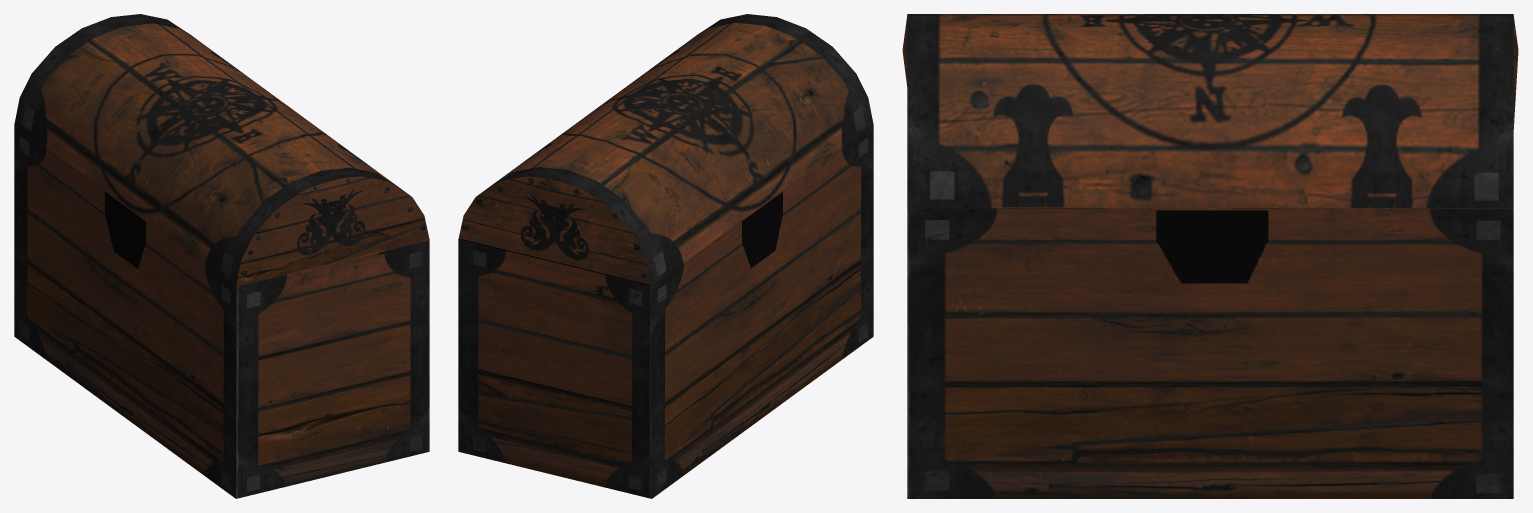
The model's file is SM_Bau.fbx.
3 views of the same model, side by side, from view 1: azimuth 30°, elevation 25°; view 2: azimuth 150°, elevation 25°; view 3: azimuth 270°, elevation 25° (orthographic). The views are drawn at different scales.
Visible parts, largest first — view 1: Bau_base, Bau_tampa; view 2: Bau_base, Bau_tampa; view 3: Bau_base, Bau_tampa.
Part boxes in pixels (box(x1,y1,x2,y2)): Bau_base: box(14, 124, 429, 498); Bau_tampa: box(14, 14, 429, 286); Bau_base: box(458, 124, 873, 498); Bau_tampa: box(458, 14, 873, 286); Bau_base: box(907, 208, 1513, 498); Bau_tampa: box(902, 14, 1518, 207).
Bounding box in the file's own units: 52.84 × 77.3 × 107.
2 materials, 2 textured.
